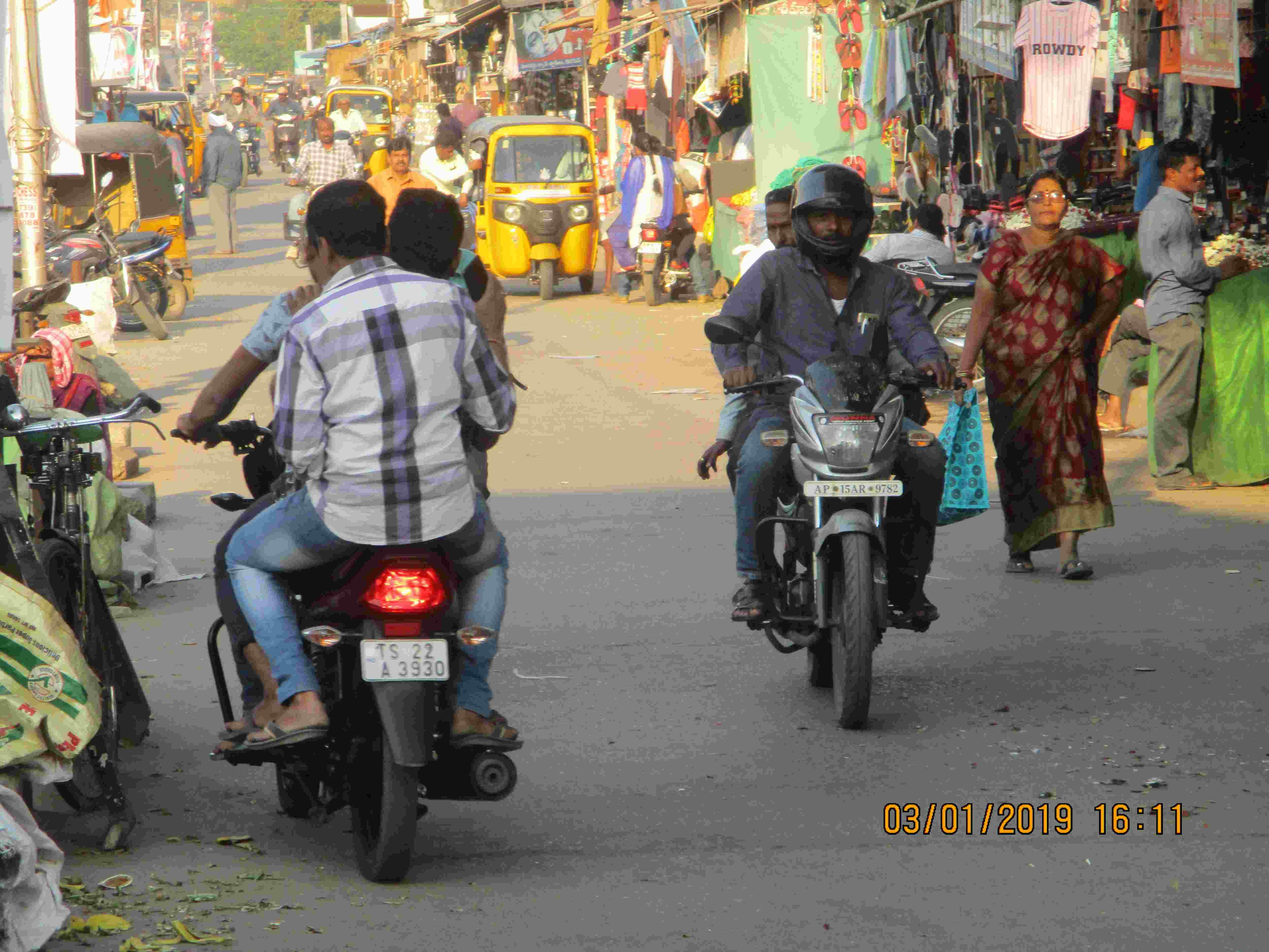plate: (353, 632, 455, 687), (800, 476, 913, 502)
